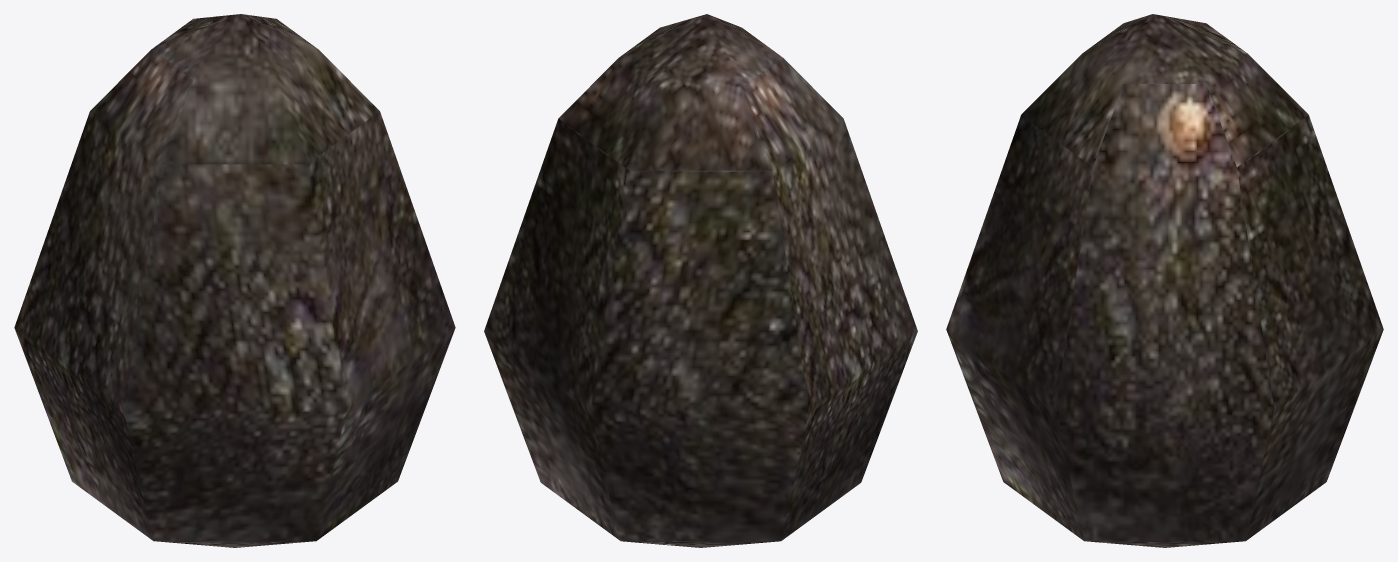
The model's file is Avocado.glb.
3 renders of one model, left to right at view 1: azimuth 30°, elevation 25°; view 2: azimuth 150°, elevation 25°; view 3: azimuth 270°, elevation 25°, orthographic.
Visible parts, largest first — view 1: Avocado; view 2: Avocado; view 3: Avocado.
Boxes of the visible parts, left/top/right/bottom form: Avocado: left=14, top=14, right=455, bottom=547; Avocado: left=484, top=14, right=917, bottom=547; Avocado: left=946, top=14, right=1383, bottom=547.
Bounding box in the file's own units: 0.1087 × 0.169 × 0.1255.
Materials: 1 (1 with a texture image).
